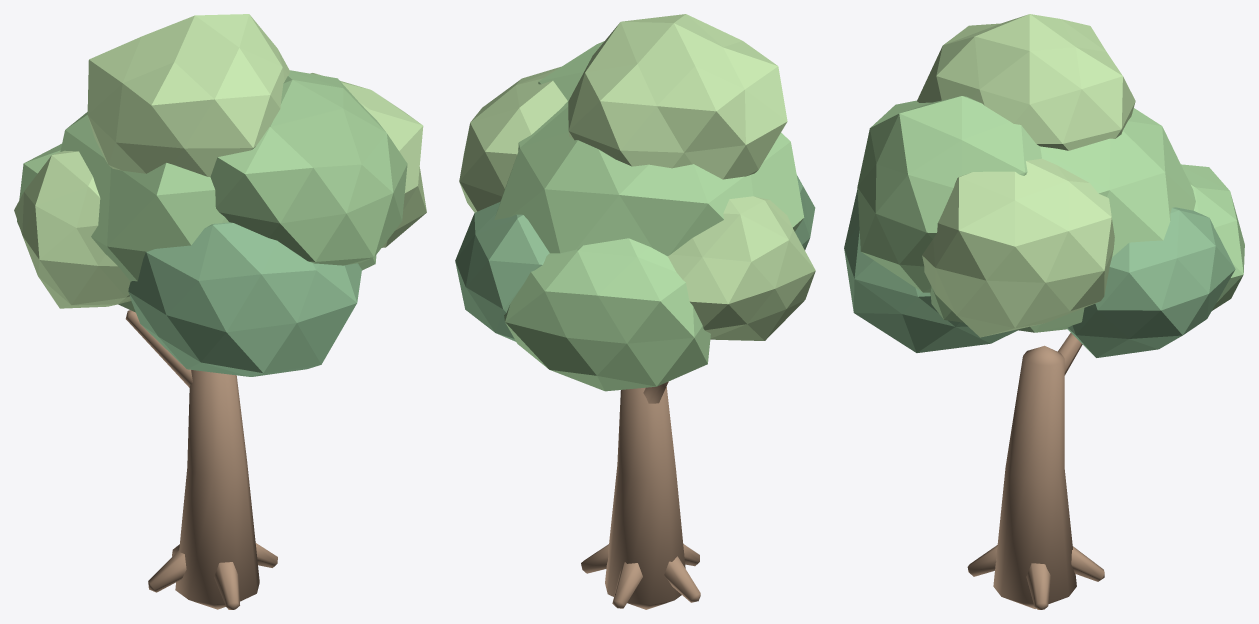
The model's file is tree_round_c.glb.
The picture shows the model from 3 angles, left to right: view 1: azimuth 30°, elevation 25°; view 2: azimuth 150°, elevation 25°; view 3: azimuth 270°, elevation 25°; orthographic projection. The views are drawn at different scales.
Visible parts, largest first — view 1: tree_round_c; view 2: tree_round_c; view 3: tree_round_c.
Boxes of the visible parts, x1,y1,x2,y2 form: tree_round_c: (14,14,426,609); tree_round_c: (455,14,815,609); tree_round_c: (844,14,1244,609).
Bounding box in the file's own units: 2.29 × 3.7 × 2.3.
